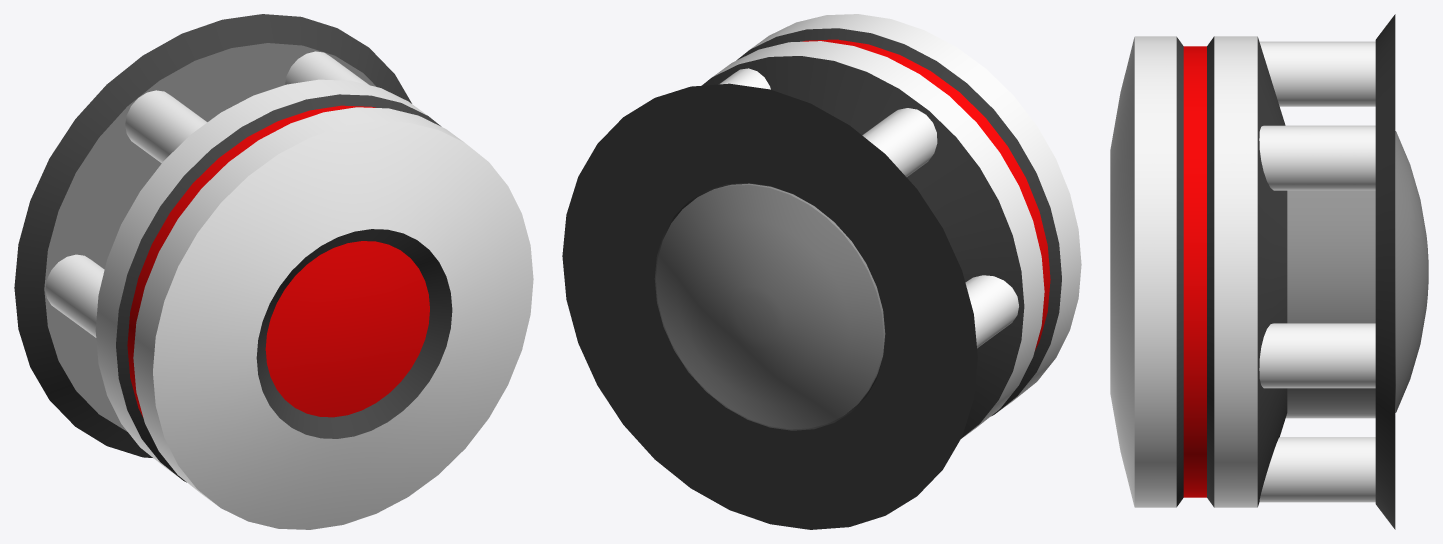
Rendered from laboratory.obj.
3 renders of one model, left to right at view 1: azimuth 30°, elevation 25°; view 2: azimuth 150°, elevation 25°; view 3: azimuth 270°, elevation 25°, orthographic. The views are drawn at different scales.
Parts seen in each view (by area): view 1: OilTank001, Tube001, Cylinder003, Cylinder004, Cylinder002; view 2: Tube001, OilTank001, Cylinder003, Cylinder004, Cylinder002; view 3: OilTank001, Tube001, Cylinder001, Cylinder002, Cylinder006, Cylinder003, Cylinder005.
Boxes of the visible parts, box(x1,y1,x2,y2) form: OilTank001: box(95, 79, 533, 529); Tube001: box(14, 14, 411, 457); Cylinder003: box(125, 90, 207, 163); Cylinder004: box(45, 254, 104, 337); Cylinder002: box(285, 51, 369, 85); Tube001: box(562, 83, 977, 529); OilTank001: box(656, 14, 1081, 438); Cylinder003: box(862, 108, 937, 177); Cylinder004: box(965, 275, 1018, 348); Cylinder002: box(719, 68, 770, 89); OilTank001: box(1110, 36, 1428, 507); Tube001: box(1375, 14, 1395, 529); Cylinder001: box(1259, 323, 1375, 388); Cylinder002: box(1259, 125, 1375, 190); Cylinder006: box(1259, 437, 1375, 502); Cylinder003: box(1259, 41, 1375, 106); Cylinder005: box(1286, 413, 1375, 418).
Bounding box in the file's own units: 1.58 × 1.58 × 0.9747.
